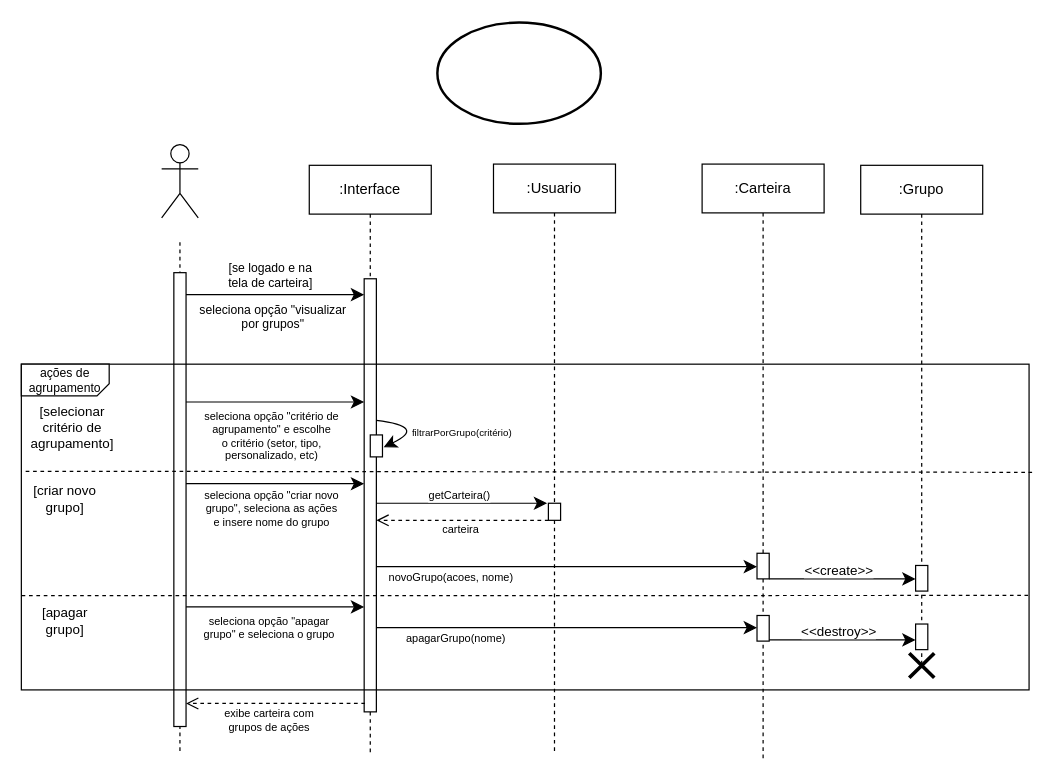
This 1054x780 diagram has some shape labels left out. The shapes that lost their labels are listed below. From the top down, each one's box as (x1, y1, x2, y2) in pixels, then its label:
(436, 21, 601, 124): UC-20 Agrupar ações na carteira
(160, 143, 198, 218): Usuário
